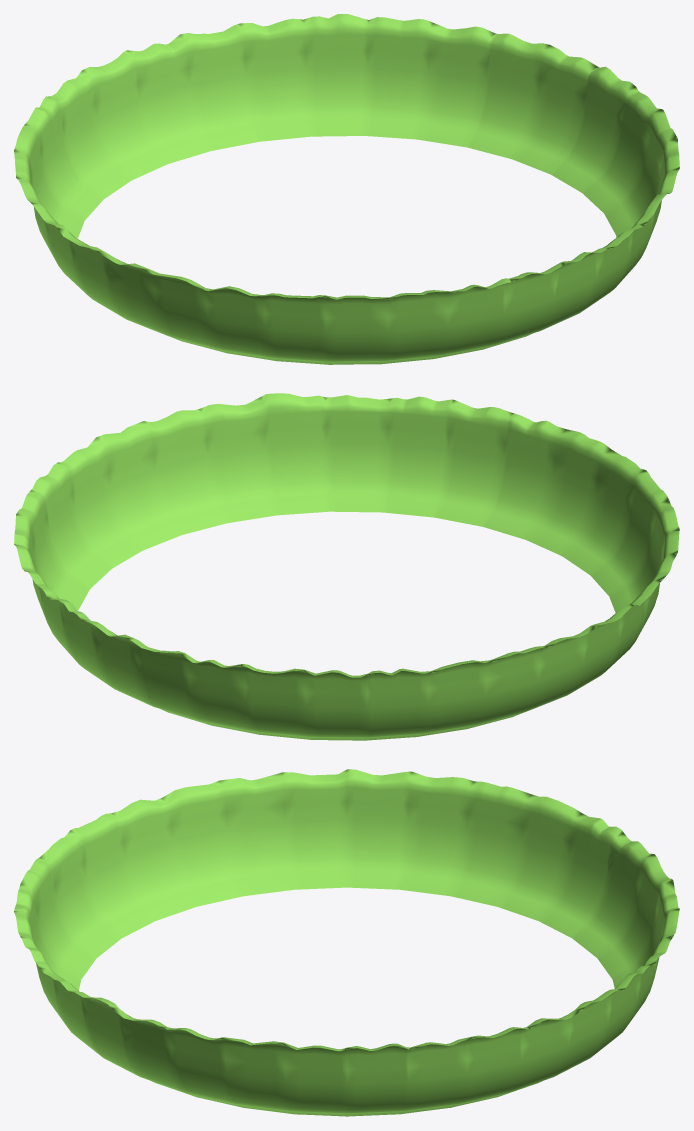
The model's file is Rand_Visuals2.fbx.
3 renders of one model, top to bottom at view 1: azimuth 30°, elevation 25°; view 2: azimuth 150°, elevation 25°; view 3: azimuth 270°, elevation 25°, orthographic.
Parts seen in each view (by area): view 1: Cylinder; view 2: Cylinder; view 3: Cylinder.
Part boxes in pixels (x1,y1,x2,y2): Cylinder: [14, 14, 679, 364]; Cylinder: [14, 393, 679, 740]; Cylinder: [14, 769, 679, 1116].
Size of the model in its own units: 243 by 38.61 by 243.
